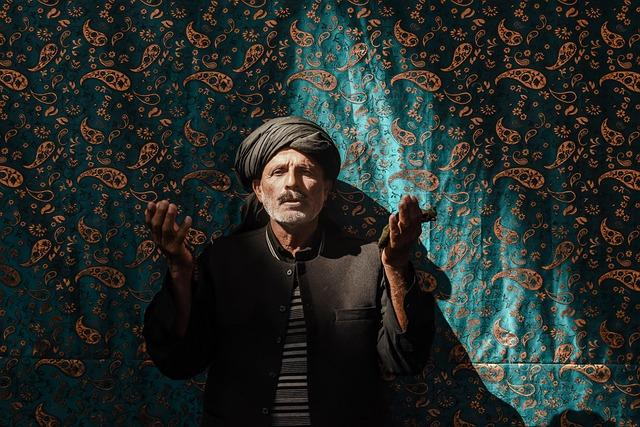Non_Gorille: (131, 72, 508, 424)
